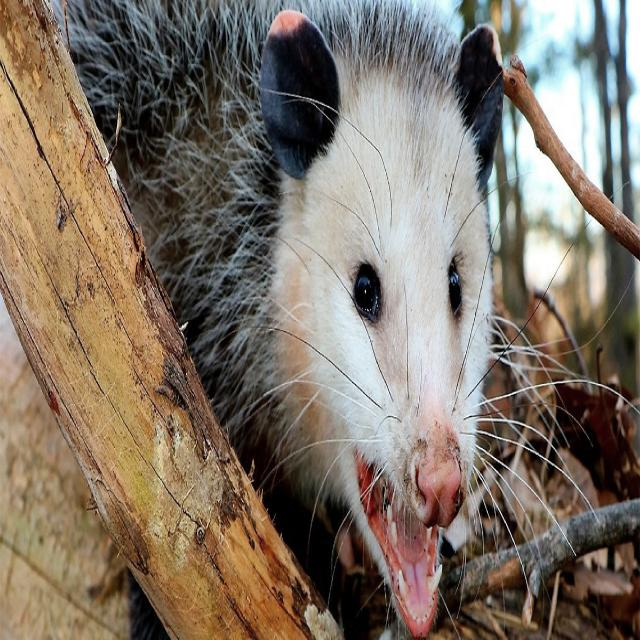possum: (67, 0, 511, 638)
